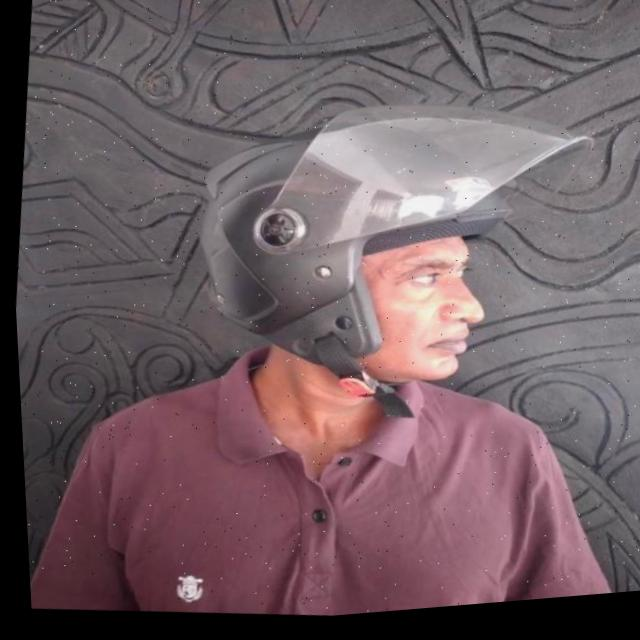helmet: (172, 73, 606, 457)
